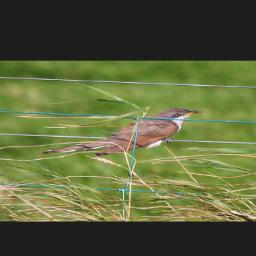Cuckoo: (38, 105, 204, 162)
